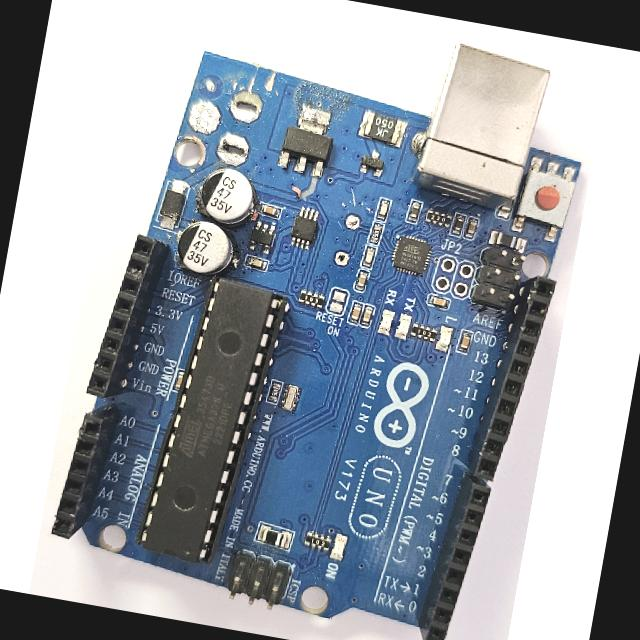missing_crystal_os: (319, 187, 375, 288)
missing_eps: (209, 74, 277, 173)
